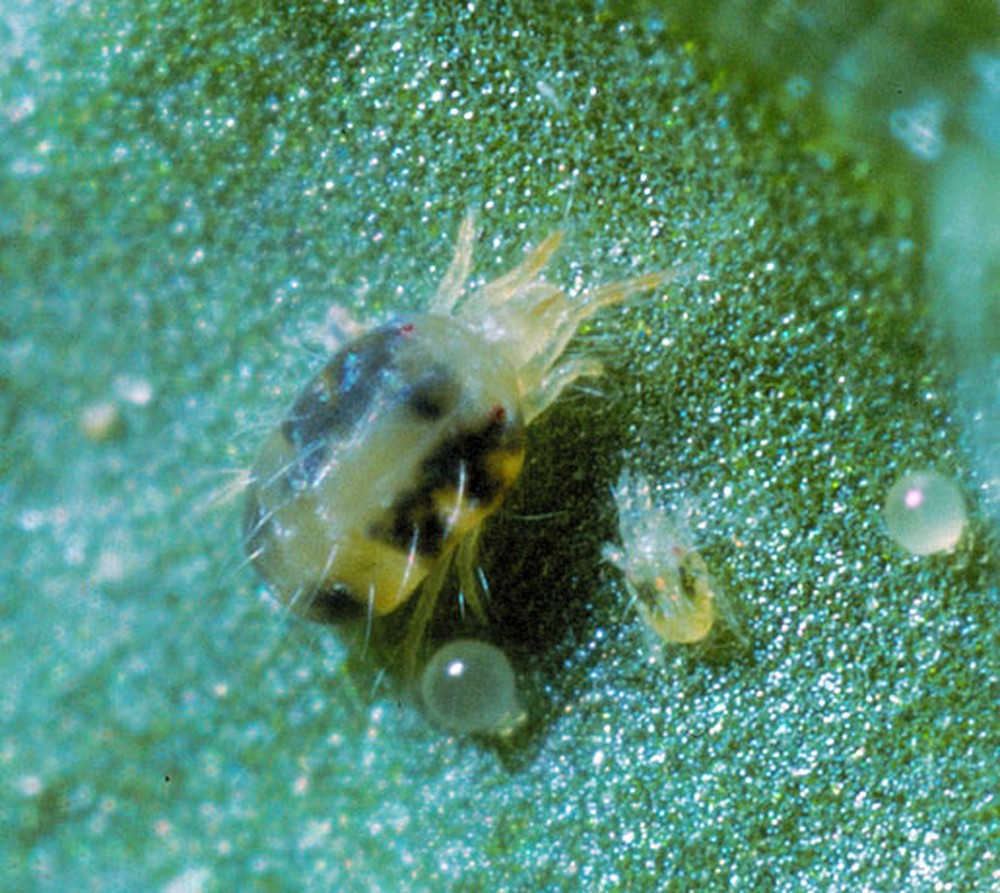Aracnido Rojo: (198, 209, 628, 657), (591, 471, 774, 670)
